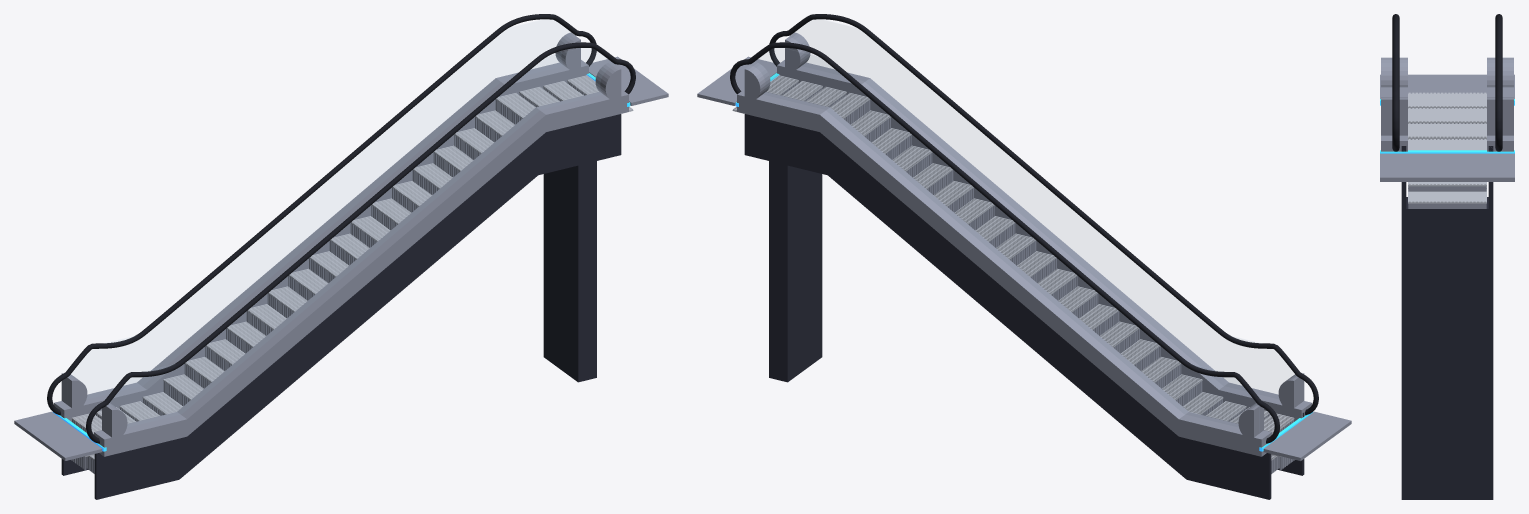
The model's file is escalator.glb.
3 views of the same model, side by side, from view 1: azimuth 30°, elevation 25°; view 2: azimuth 150°, elevation 25°; view 3: azimuth 270°, elevation 25° (orthographic). The views are drawn at different scales.
Parts seen in each view (by area): view 1: truss_skirt_left, deck_left, support_pedestal, deck_right, handrail_left, handrail_right, comb_plate_lower, comb_plate_upper, newel_upper_left, newel_lower_right, newel_lower_left; view 2: truss_skirt_right, deck_right, support_pedestal, deck_left, handrail_right, handrail_left, comb_plate_lower, comb_plate_upper, newel_upper_right, newel_lower_left; view 3: support_pedestal, comb_plate_upper, comb_plate_lower, tread_25, tread_26, tread_27, handrail_left, handrail_right, tread_30, tread_28, newel_upper_left, newel_upper_right (+10 smaller).
Part boxes in pixels (bbox=[...]): truss_skirt_left: bbox=[94, 114, 621, 499]; deck_left: bbox=[94, 89, 628, 456]; support_pedestal: bbox=[543, 161, 596, 382]; deck_right: bbox=[54, 60, 588, 421]; handrail_left: bbox=[86, 42, 635, 443]; handrail_right: bbox=[47, 14, 596, 415]; comb_plate_lower: bbox=[14, 411, 102, 460]; comb_plate_upper: bbox=[589, 56, 668, 105]; newel_upper_left: bbox=[595, 62, 621, 101]; newel_lower_right: bbox=[61, 373, 87, 413]; newel_lower_left: bbox=[102, 403, 127, 439]; truss_skirt_right: bbox=[744, 114, 1271, 499]; deck_right: bbox=[737, 89, 1271, 456]; support_pedestal: bbox=[769, 161, 822, 382]; deck_left: bbox=[777, 60, 1311, 421]; handrail_right: bbox=[730, 42, 1279, 443]; handrail_left: bbox=[769, 14, 1318, 415]; comb_plate_lower: bbox=[1263, 411, 1351, 460]; comb_plate_upper: bbox=[697, 56, 776, 105]; newel_upper_right: bbox=[744, 62, 770, 101]; newel_lower_left: bbox=[1278, 373, 1304, 411]; support_pedestal: bbox=[1401, 197, 1493, 499]; comb_plate_upper: bbox=[1380, 153, 1514, 181]; comb_plate_lower: bbox=[1380, 74, 1514, 98]; tread_25: bbox=[1408, 92, 1486, 108]; tread_26: bbox=[1408, 108, 1486, 123]; tread_27: bbox=[1408, 123, 1486, 138]; handrail_left: bbox=[1392, 14, 1399, 151]; handrail_right: bbox=[1495, 14, 1502, 151]; tread_30: bbox=[1408, 189, 1486, 203]; tread_28: bbox=[1408, 139, 1486, 150]; newel_upper_left: bbox=[1381, 97, 1407, 135]; newel_upper_right: bbox=[1487, 97, 1513, 135].
Size of the model in its own units: 11.65 by 6.33 by 1.7.
